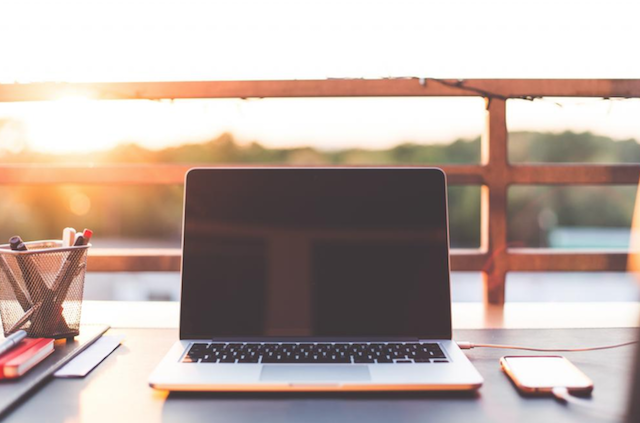computer: (152, 155, 483, 414)
phone: (498, 338, 599, 408)
